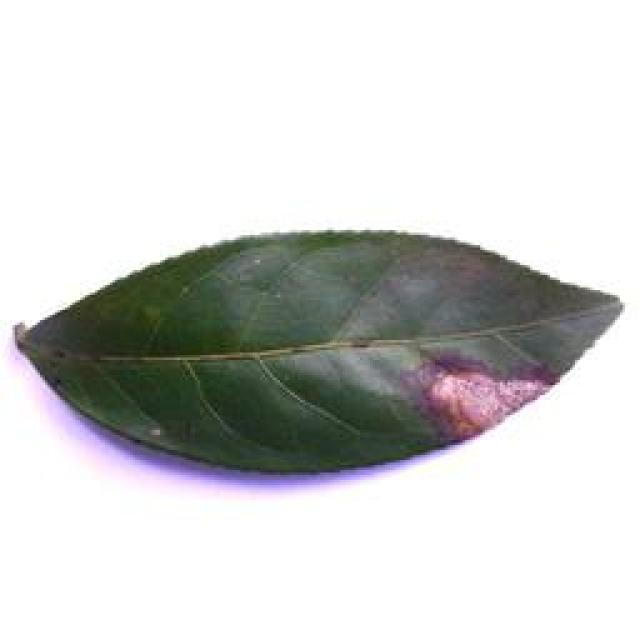Gray Blight: (16, 227, 619, 472)
